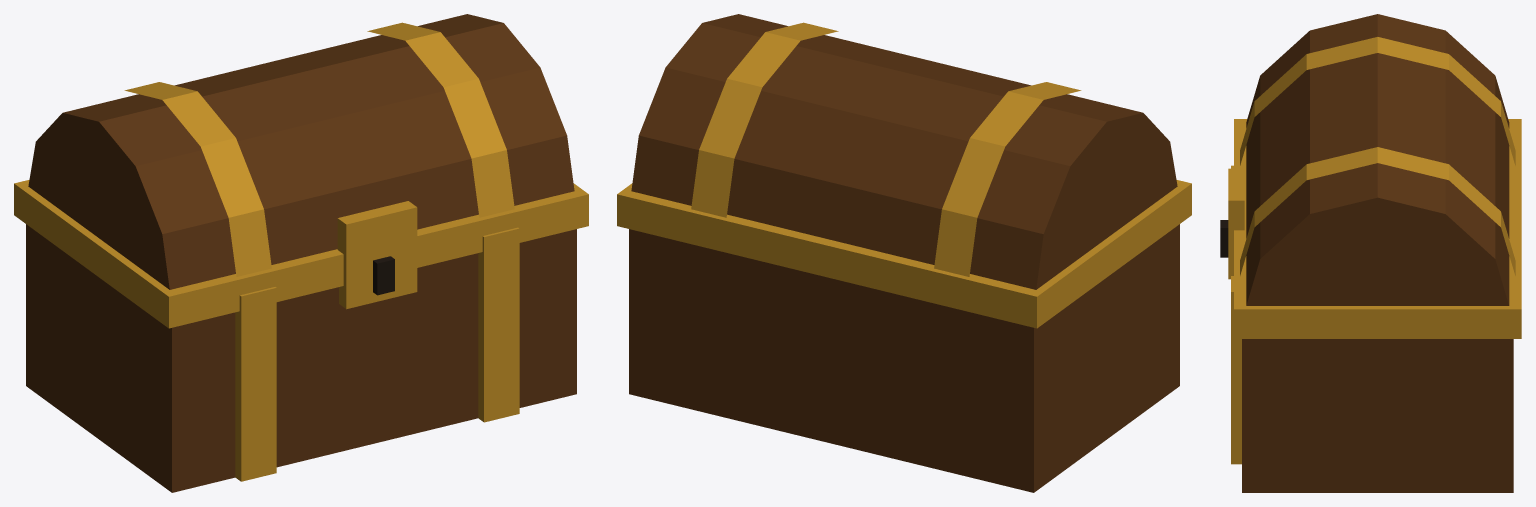
Rendered from treasure-chest-58da92.glb.
3 views of the same model, side by side, from view 1: azimuth 30°, elevation 25°; view 2: azimuth 150°, elevation 25°; view 3: azimuth 270°, elevation 25° (orthographic). The views are drawn at different scales.
Bounding box in the file's own units: 0.83 × 0.612 × 0.555.
